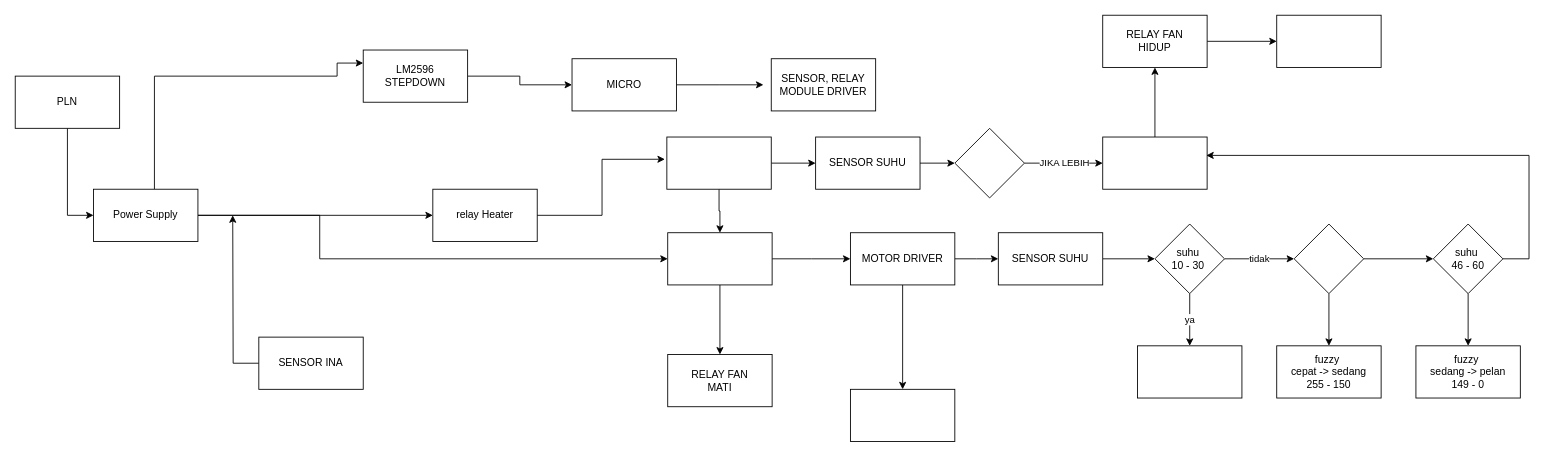
Image size: 1551x457. Some labels were removed from this diagram. The shapes that lost their labels are listed below. From the top down, each one's centre as x and y in pixels, then its label:
At point (1328, 40): "FAN HIDUP".
At point (718, 162): "HEATER ON".
At point (989, 162): "SUHU 60 - 75 C".
At point (1154, 162): "OFF".
At point (719, 258): "RELAY MOTOR DC ON".
At point (1328, 258): "suhu 31 - 45".
At point (1189, 371): "fuzzy pelan -> cepat 0 - 255".
At point (902, 415): "PERHITUNGAN KECEPATAN DENGAN SENSOR NJK-5002".
